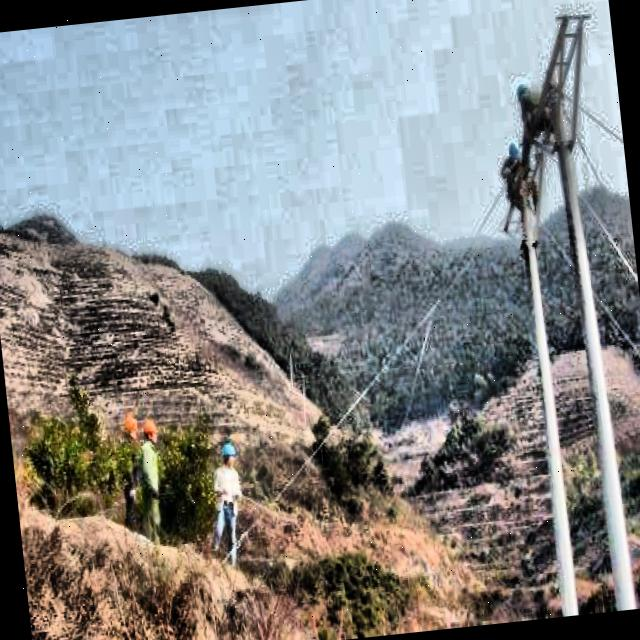helmet: (120, 406, 140, 444), (218, 438, 238, 470), (504, 138, 524, 168), (144, 418, 160, 447)
